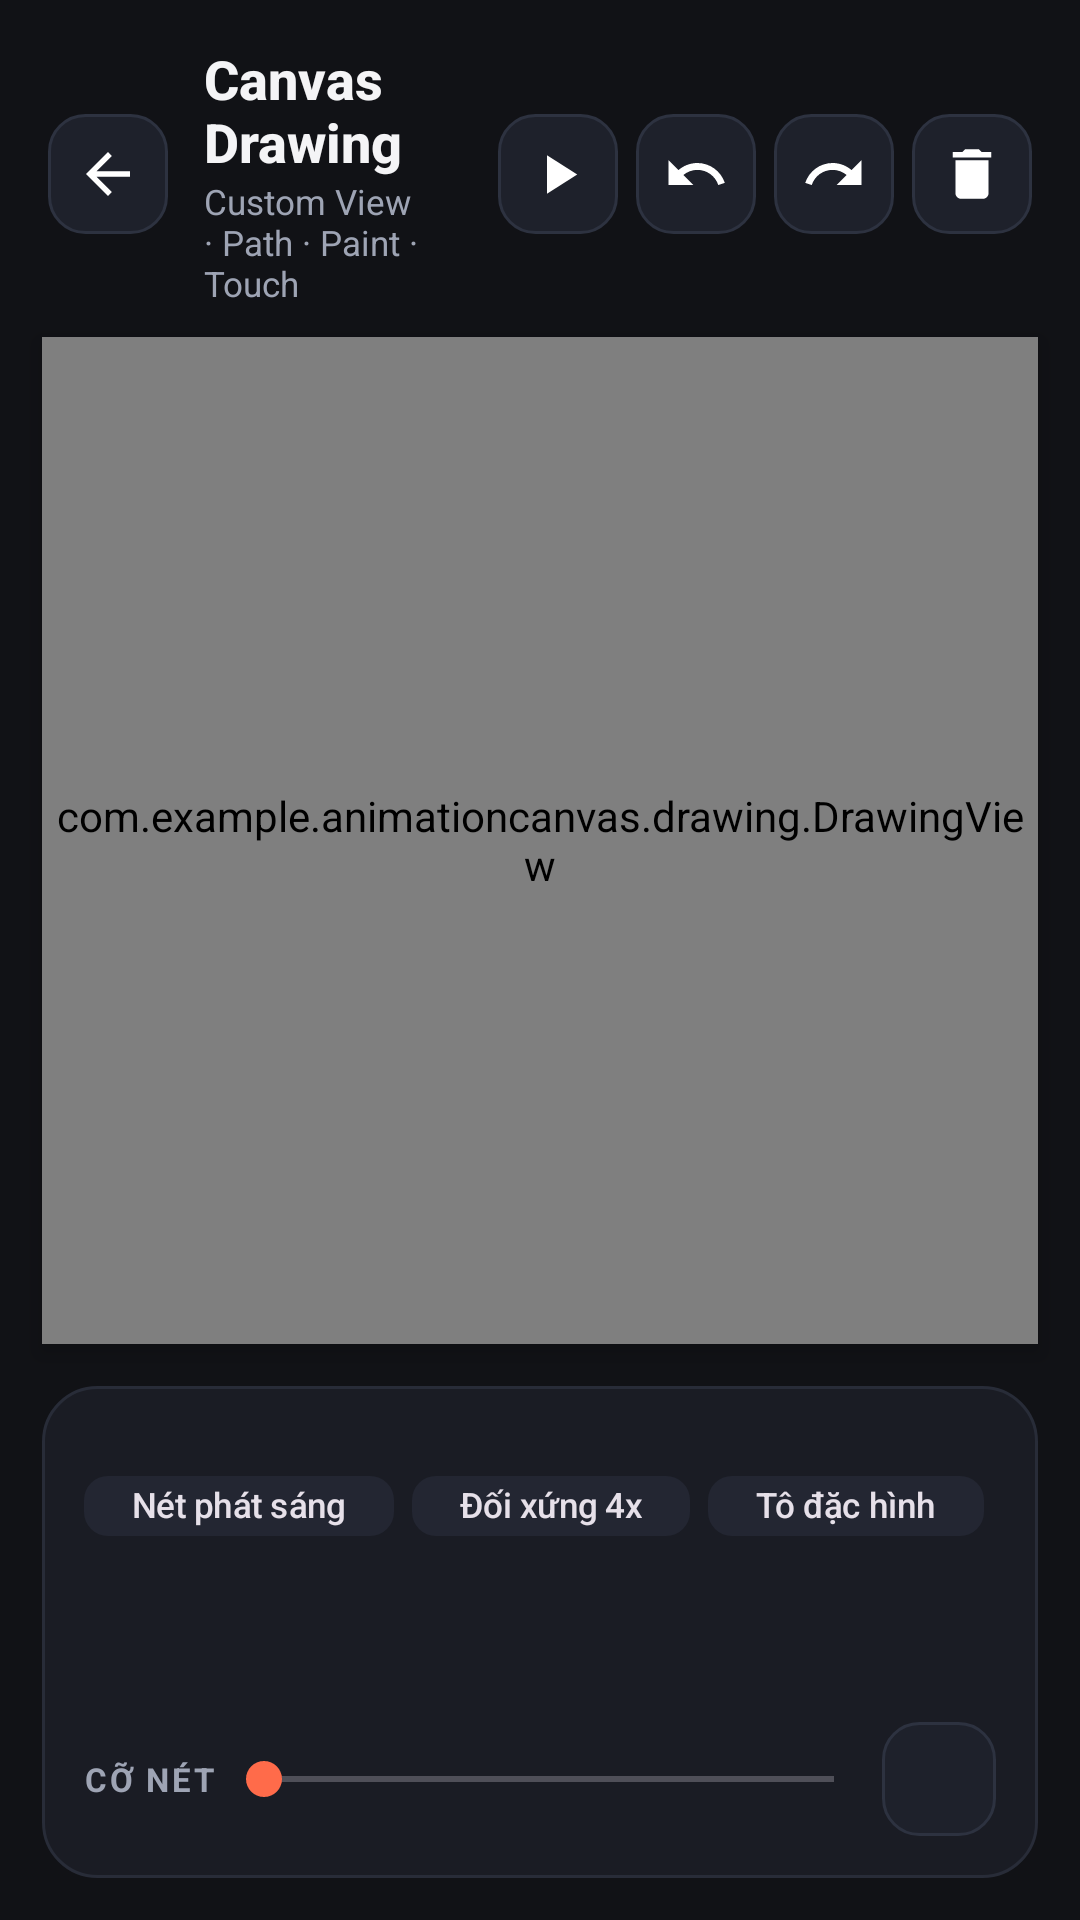

Screen size 1080×1920. Icon name, then its box in pixels as Rect(x1, y1, x2, y2):
Clear: Rect(912, 114, 1032, 234)
Quay lại: Rect(48, 114, 168, 234)
Redo: Rect(774, 114, 894, 234)
Undo: Rect(636, 114, 756, 234)
